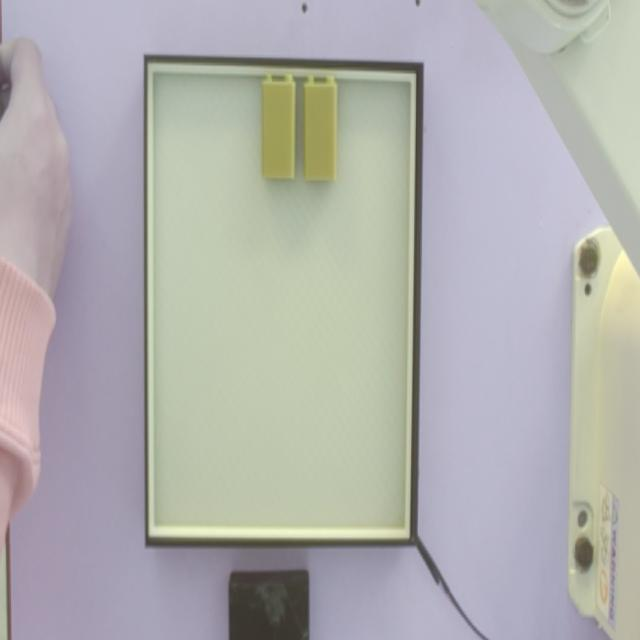bateria: (262, 72, 297, 176), (303, 74, 337, 178)
mesa: (144, 55, 423, 548)
